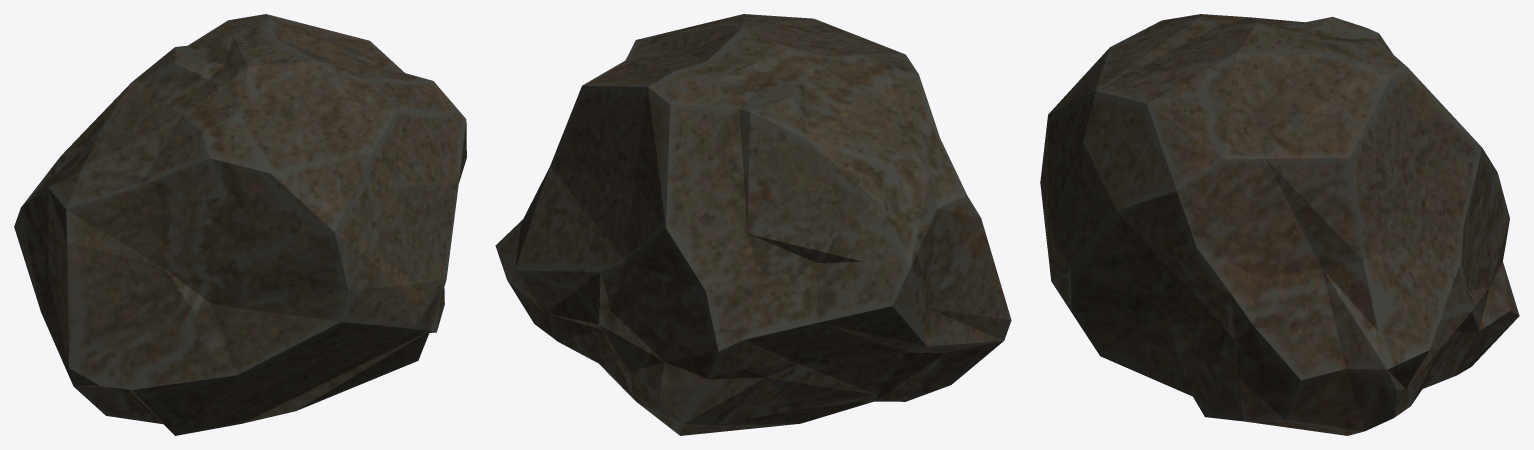
File: Stone.glb
3 views of the same model, side by side, from view 1: azimuth 30°, elevation 25°; view 2: azimuth 150°, elevation 25°; view 3: azimuth 270°, elevation 25° (orthographic). The views are drawn at different scales.
Parts seen in each view (by area): view 1: Stone_02_Material #2_0; view 2: Stone_02_Material #2_0; view 3: Stone_02_Material #2_0.
Part boxes in pixels (bbox=[...]): Stone_02_Material #2_0: bbox=[14, 14, 466, 435]; Stone_02_Material #2_0: bbox=[495, 14, 1011, 435]; Stone_02_Material #2_0: bbox=[1040, 14, 1519, 435].
Bounding box in the file's own units: 0.00351 × 0.00246 × 0.00314.
1 material, 1 textured.
